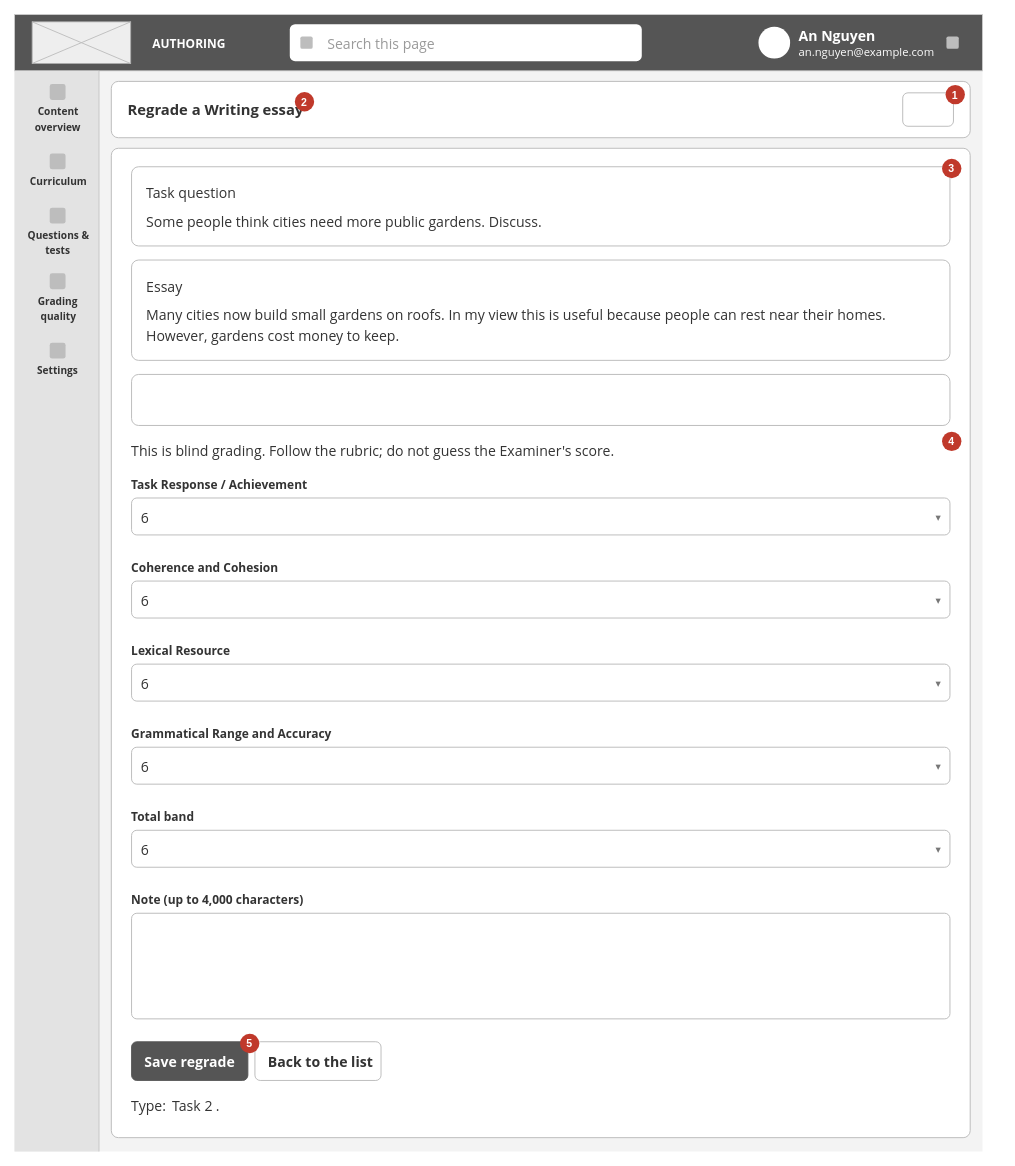
Some shapes in this 1015 by 1166 pixel diagram are drawn without their labels. The centre of each missing label's shape, as x and y in pixels:
AN: (x=774, y=42)
List: (x=927, y=109)
Reference rubric: (x=540, y=399)
